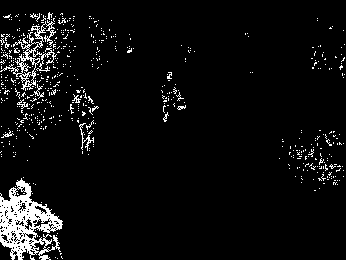person: (71, 88, 101, 154)
